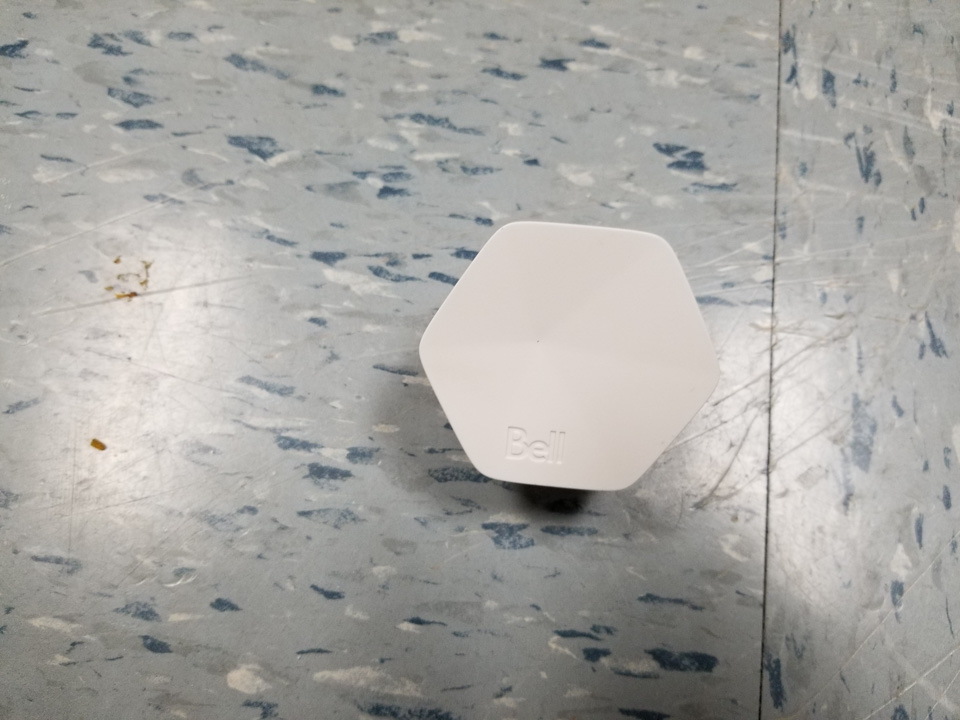pod: (412, 215, 729, 500)
